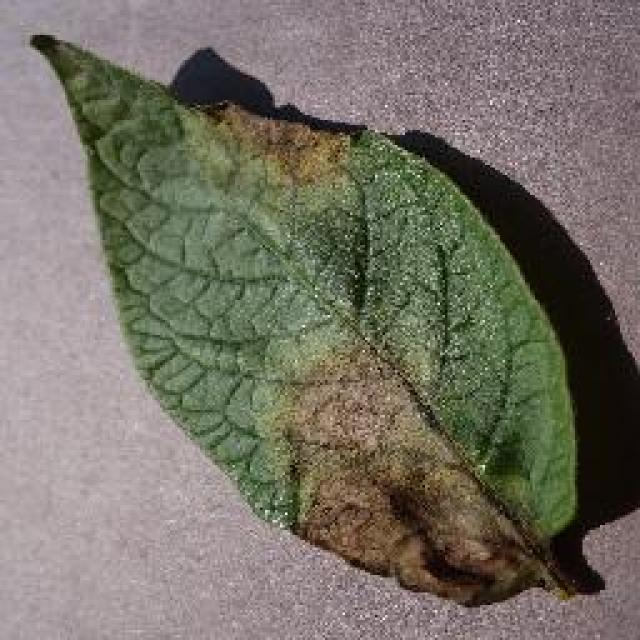late_blight: (25, 28, 590, 610)
